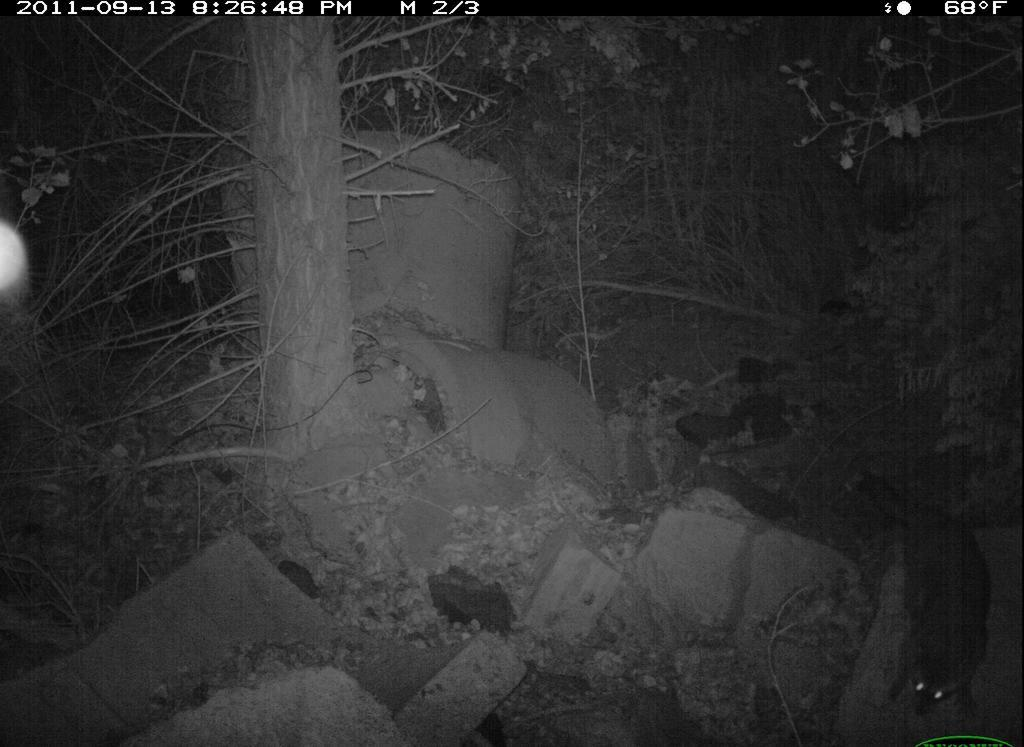raccoon: (840, 464, 1010, 729)
